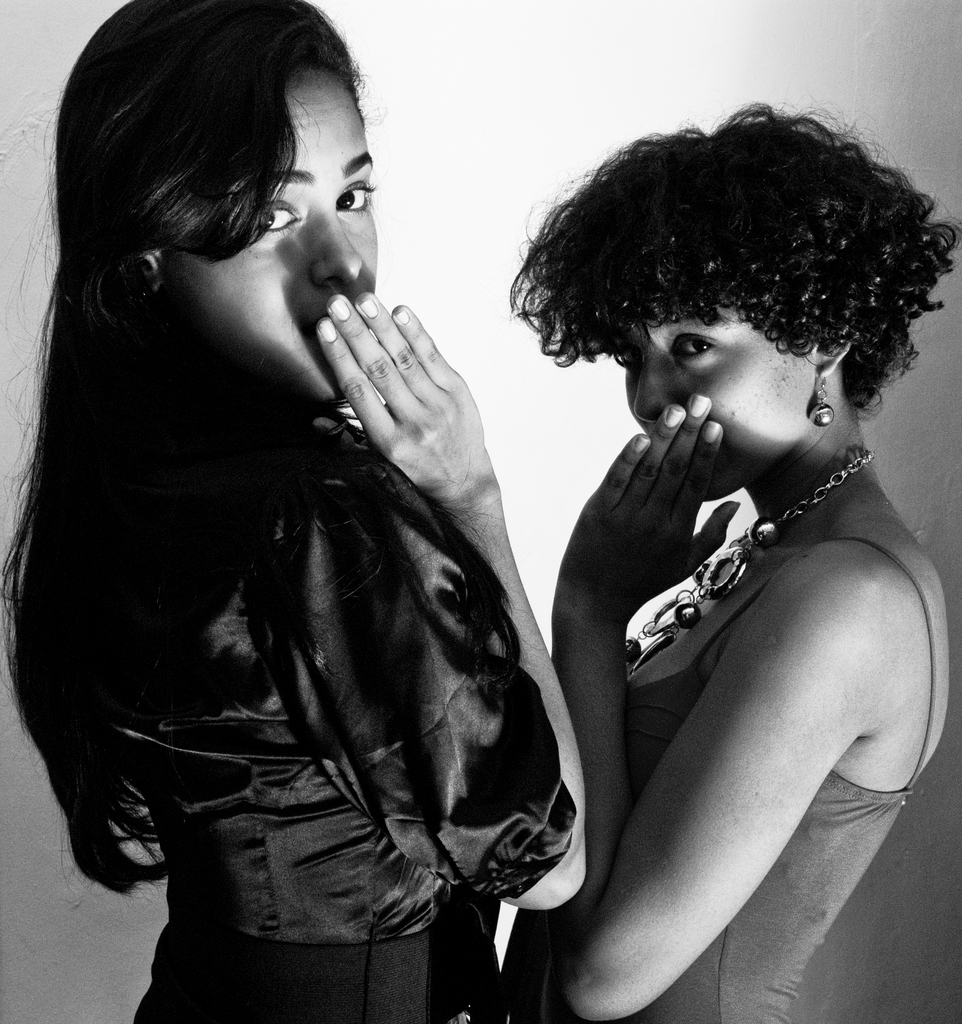Human_hand: (558, 392, 738, 613), (311, 294, 495, 504)
